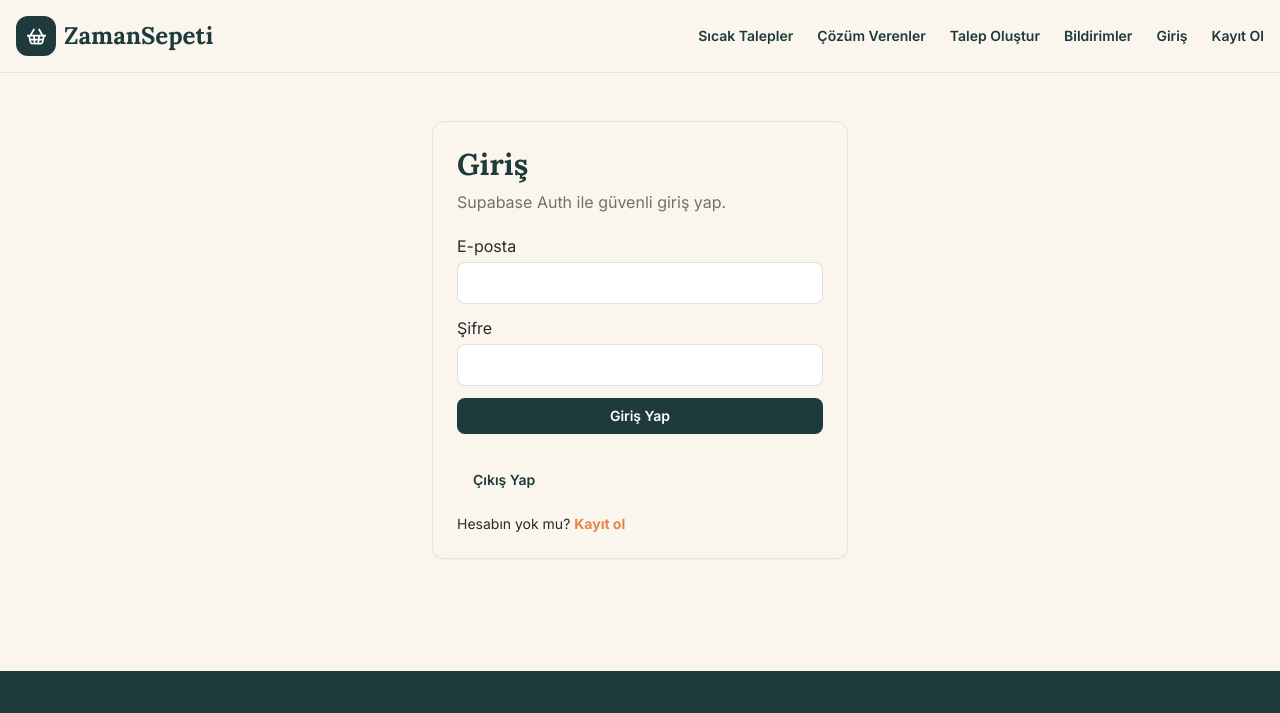
ZamanSepeti smoke flows › giriş ve kayıt sayfaları karşılıklı geçiş mikrocopylerini gösterir
Expected: the heading "Giriş" is shown, x1=457 y1=145 x2=528 y2=183
Expected: the text "Hesabın yok mu?" is shown, x1=457 y1=515 x2=570 y2=532
Click the button "Kayıt ol". click: [600, 524]
box: x1=574 y1=514 x2=625 y2=534
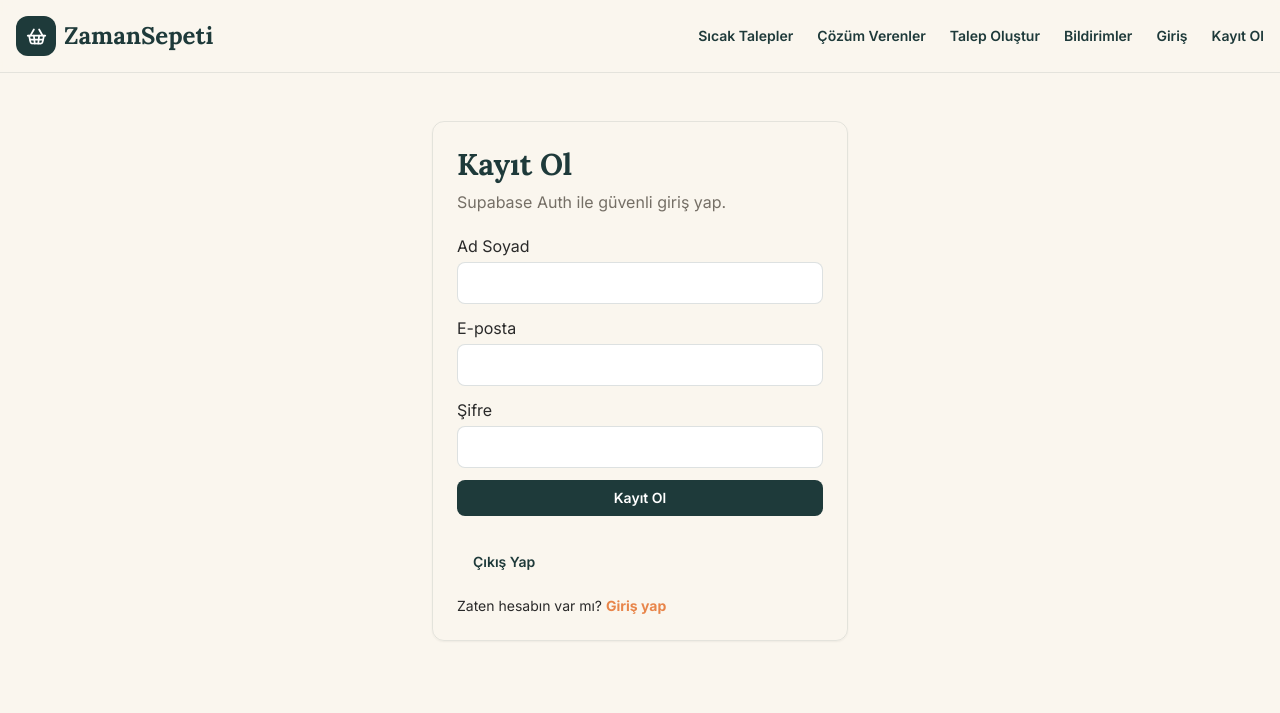
Now the heading "Kayıt Ol" is shown, box x1=457 y1=145 x2=572 y2=183
Now the text "Zaten hesabın var mı?" is shown, box x1=457 y1=597 x2=602 y2=614
